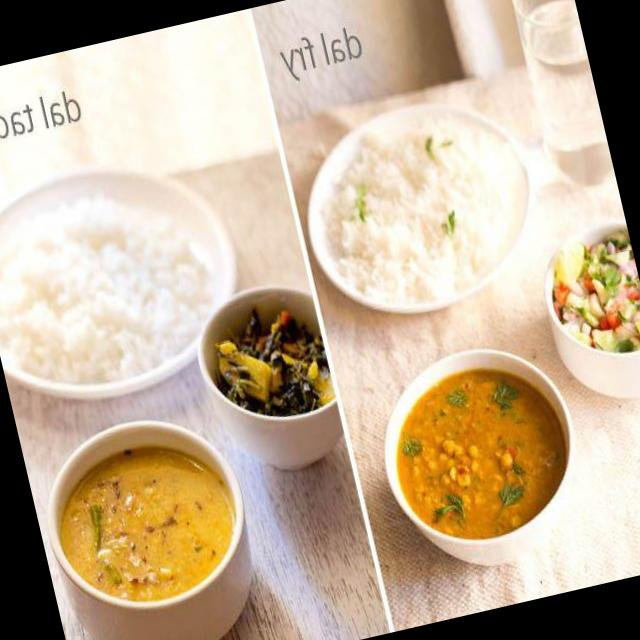dal: (374, 358, 582, 566), (47, 431, 249, 618)
rice: (0, 162, 234, 425), (300, 92, 548, 317)
